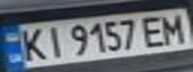1: (87, 20, 106, 54)
5: (103, 17, 124, 52)
7: (118, 16, 142, 51)
9: (66, 21, 90, 56)
E: (139, 14, 169, 48)
I: (42, 22, 69, 60)
K: (15, 25, 48, 62)
M: (157, 11, 190, 45)
